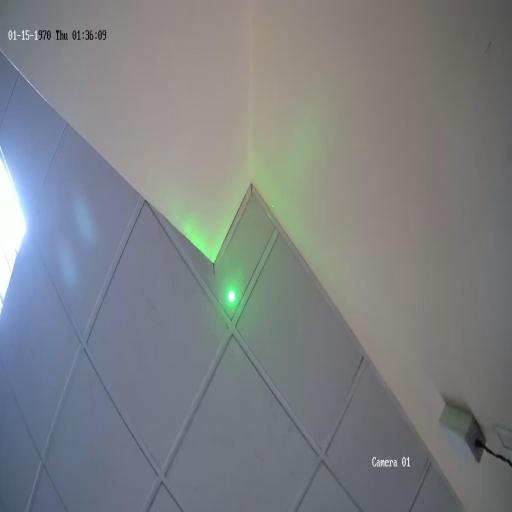laser: (226, 284, 237, 307)
